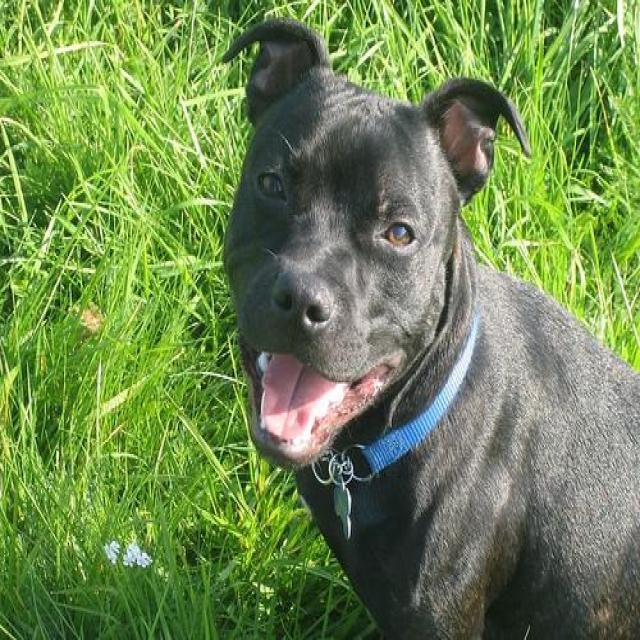staffordshire_bullterrier: (215, 14, 639, 638)
